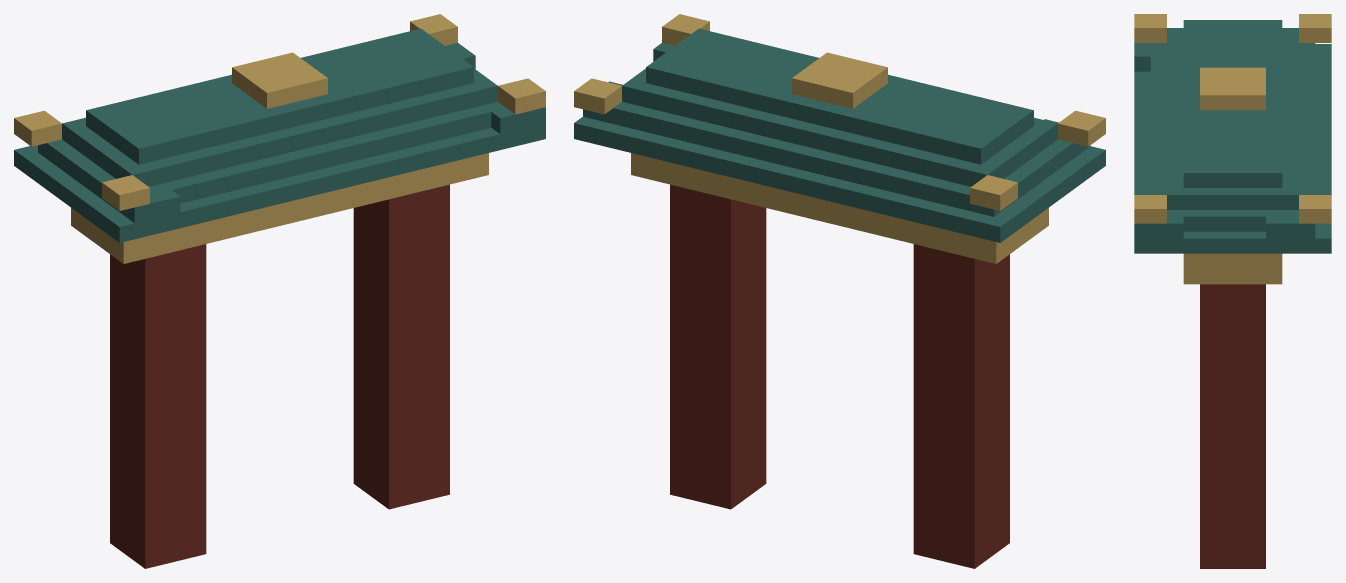
The model's file is gate.glb.
3 views of the same model, side by side, from view 1: azimuth 30°, elevation 25°; view 2: azimuth 150°, elevation 25°; view 3: azimuth 270°, elevation 25° (orthographic). The views are drawn at different scales.
Visible parts, largest first — view 1: Shell; view 2: Shell; view 3: Shell.
Part boxes in pixels (x1=…): Shell: x1=14, y1=14, x2=545, y2=568; Shell: x1=574, y1=14, x2=1105, y2=568; Shell: x1=1134, y1=14, x2=1331, y2=568.
Bounding box in the file's own units: 3.5 × 3.5 × 1.5.
